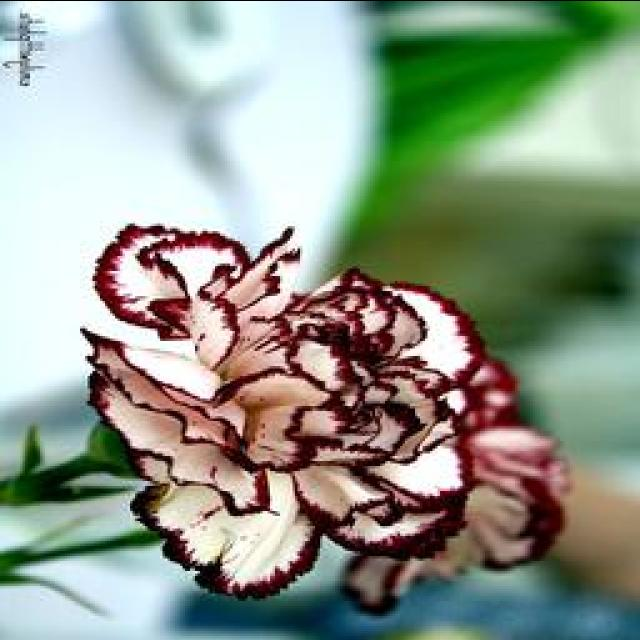carnation: (83, 204, 511, 598)
